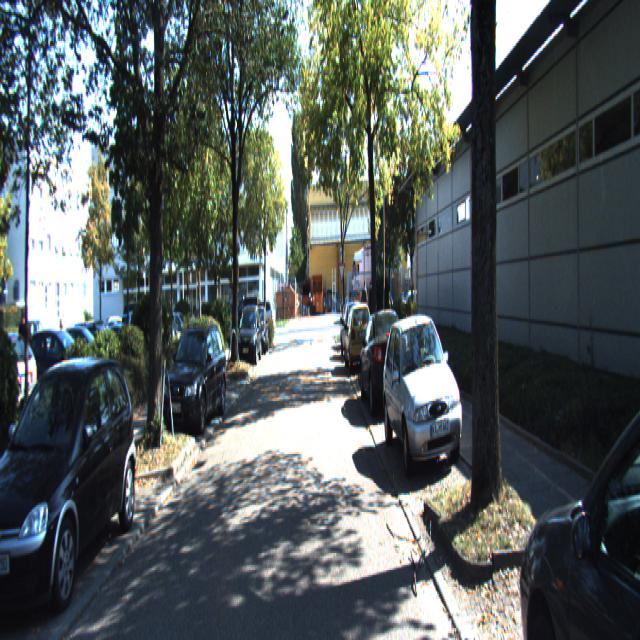Car: (518, 306, 640, 638), (0, 345, 140, 631), (382, 304, 468, 478), (160, 317, 228, 436), (358, 305, 413, 417), (343, 302, 375, 377), (236, 303, 262, 366), (340, 300, 364, 362), (250, 305, 268, 354)
